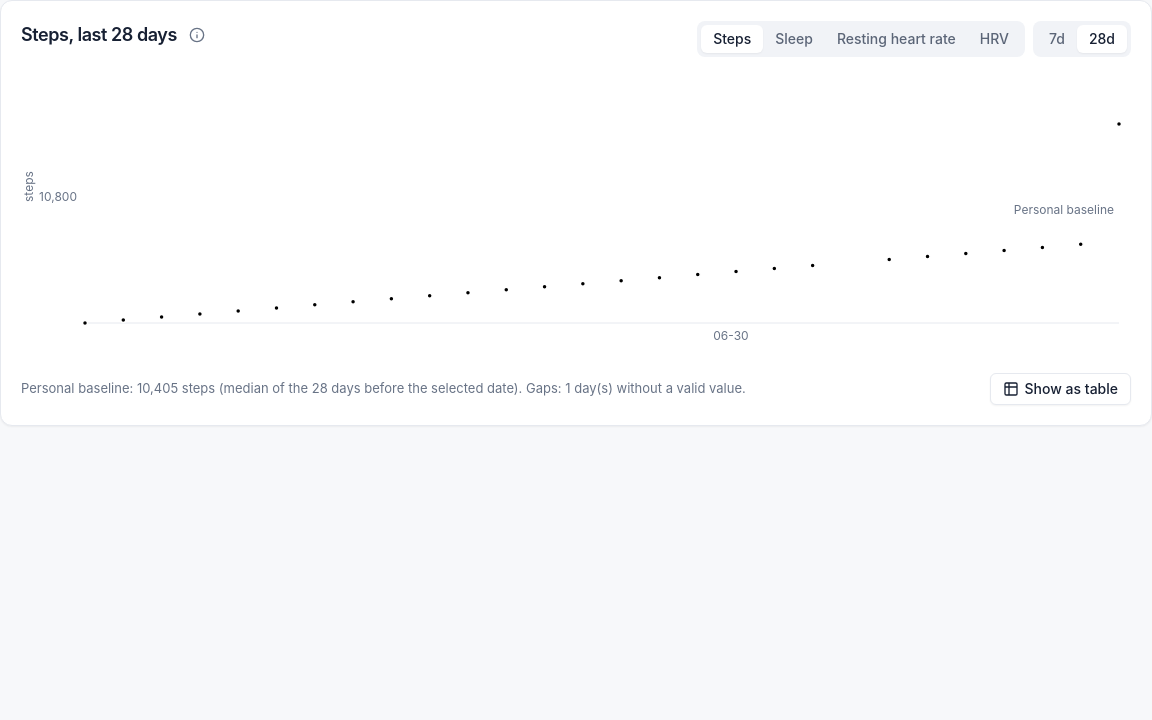
Scenario: TrendChart › metric tabs switch the chart, range buttons switch the window
The image size is (1152, 720).
Click the tab "HRV".
click(994, 39)  # box [968,25,1021,53]
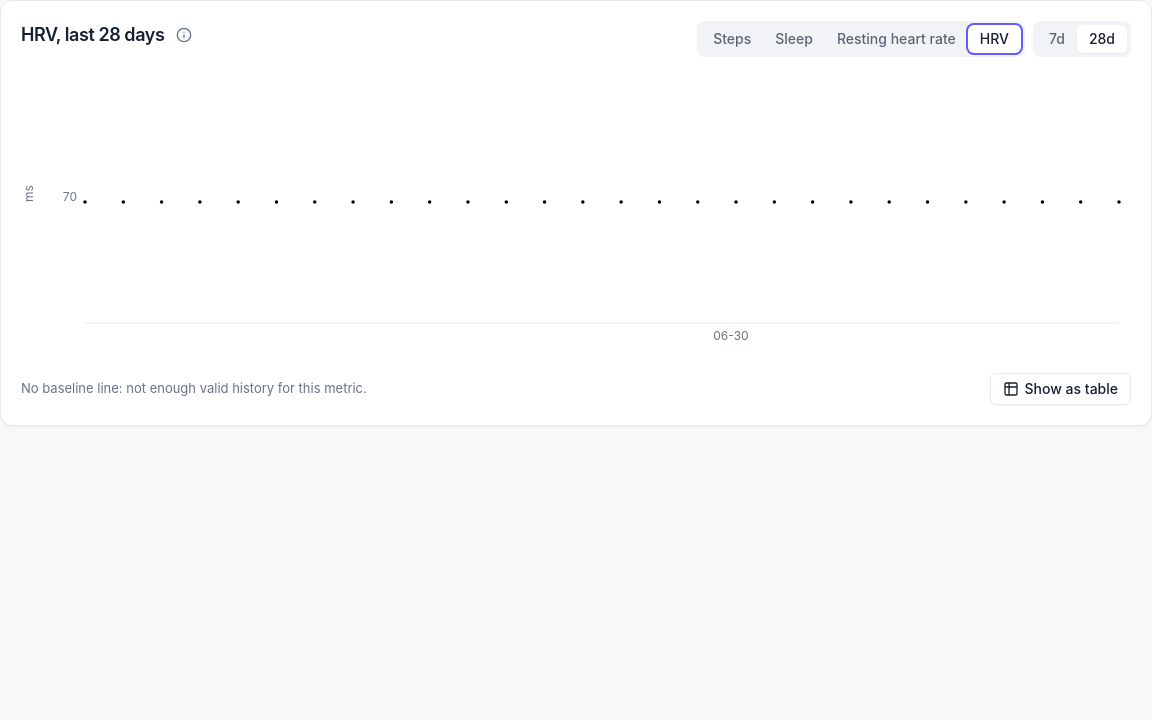
Check: the tab "HRV" is selected, box [968,25,1021,53]
Click the button named "7 days".
click(1057, 39)  # box [1037,25,1077,53]
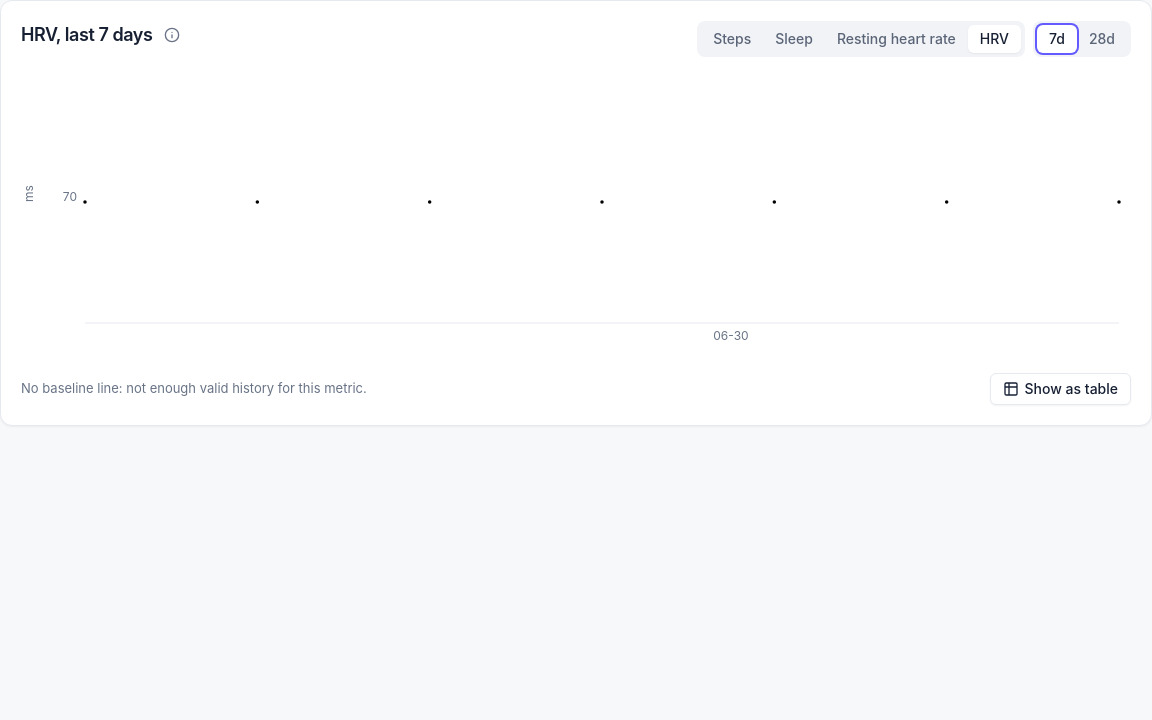
Check: the text "No baseline line: not enough valid history for this metric." is shown, box [21,378,367,400]
Check: the heading "HRV, last 7 days" is shown, box [21,21,152,49]
Click the button "Show as table".
click(1060, 389)  # box [990,373,1131,405]
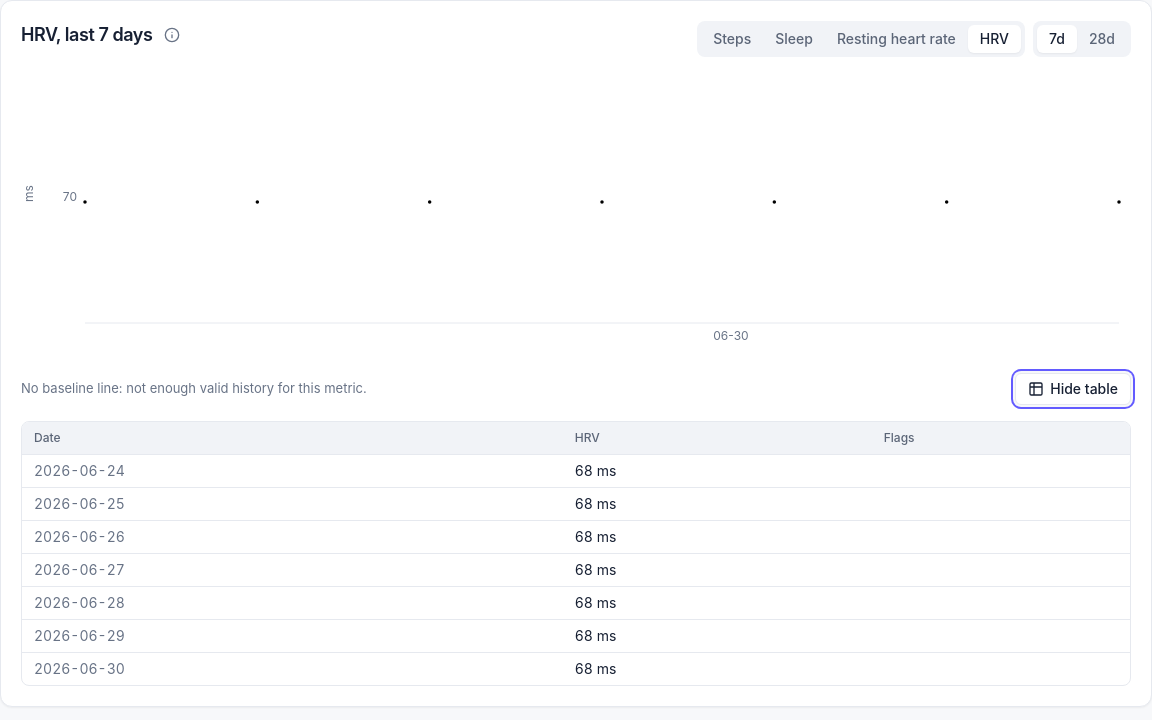
Check: the number of rows is 8
